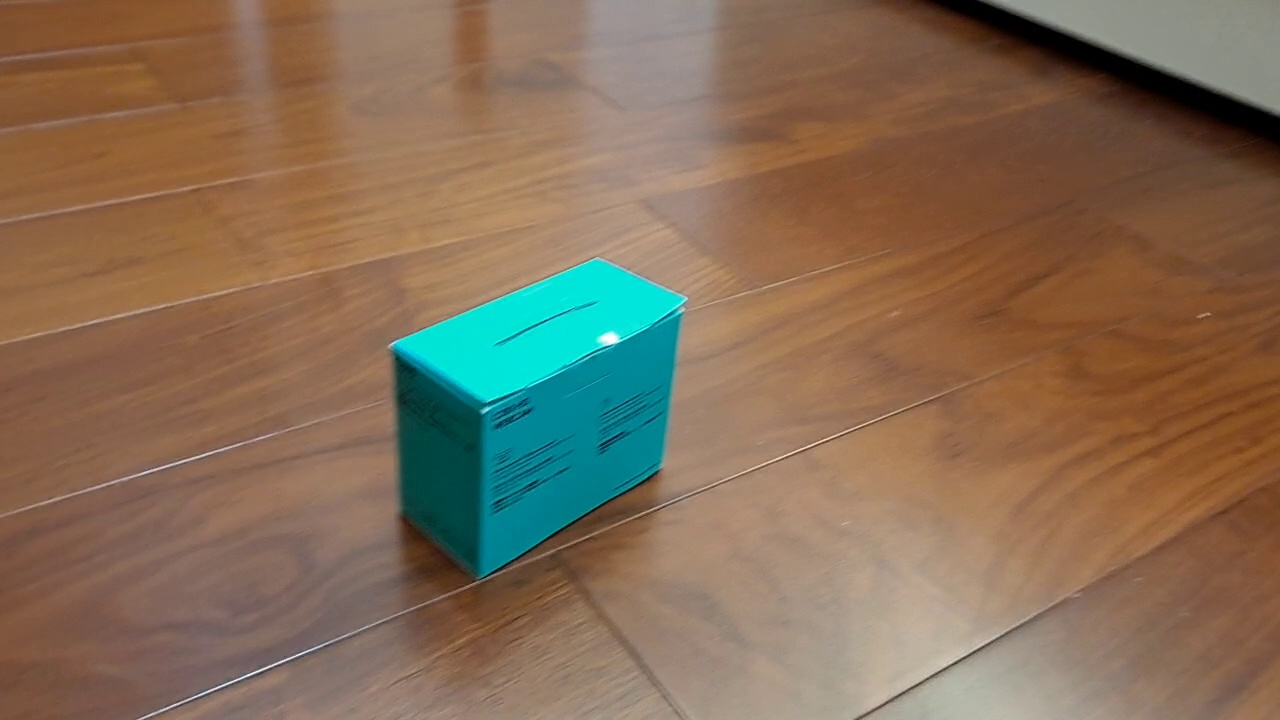webcam: (385, 255, 689, 582)
